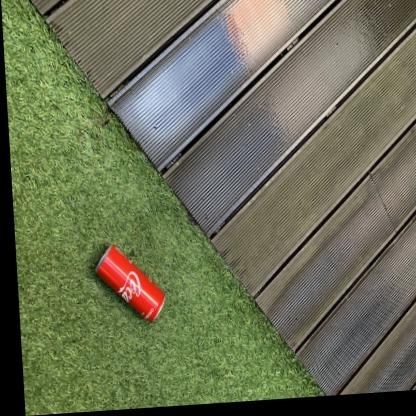trash: (96, 245, 164, 319)
